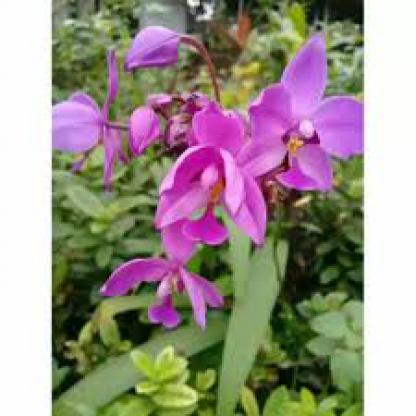ANGGREK: (72, 12, 353, 373)
